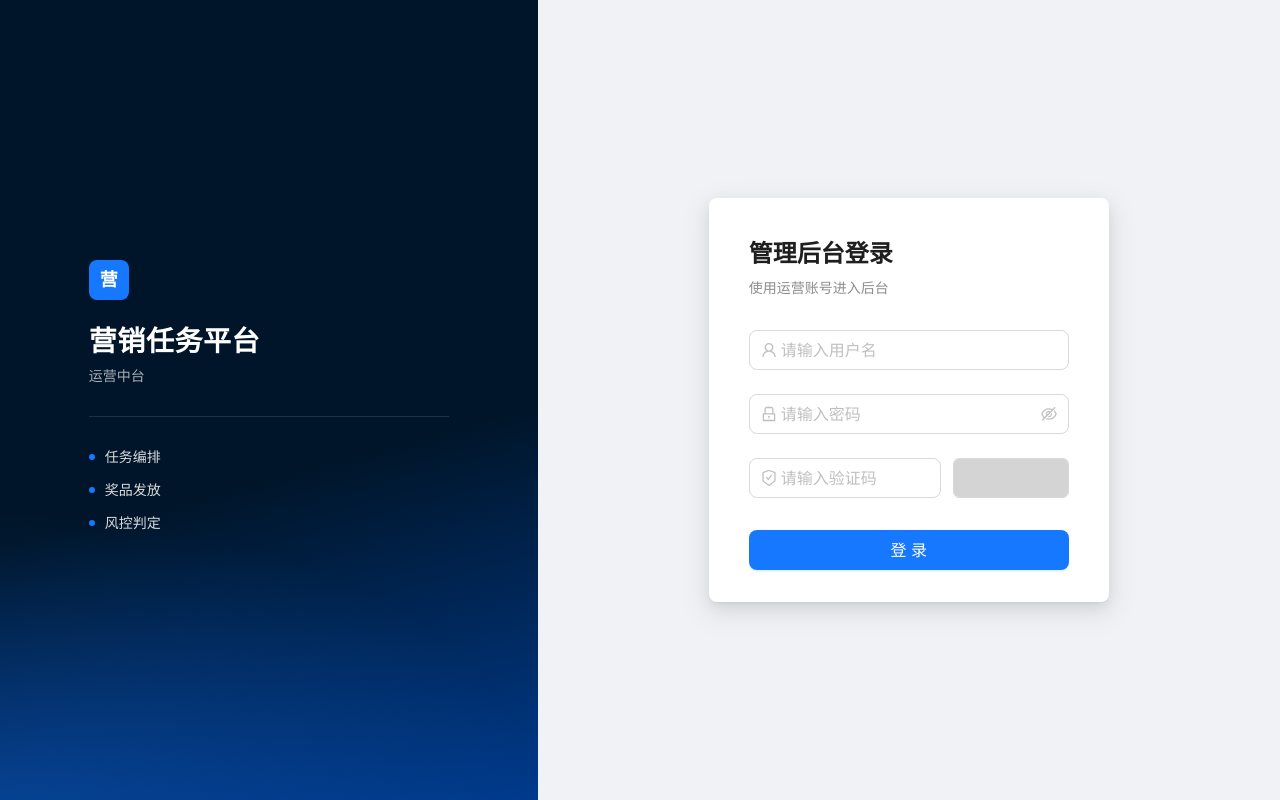
Test: LoginPage › refreshes captcha when captcha is invalid
Type "admin" into the field with placeholder "请输入用户名" at (919, 350), box [781,338,1057,362]
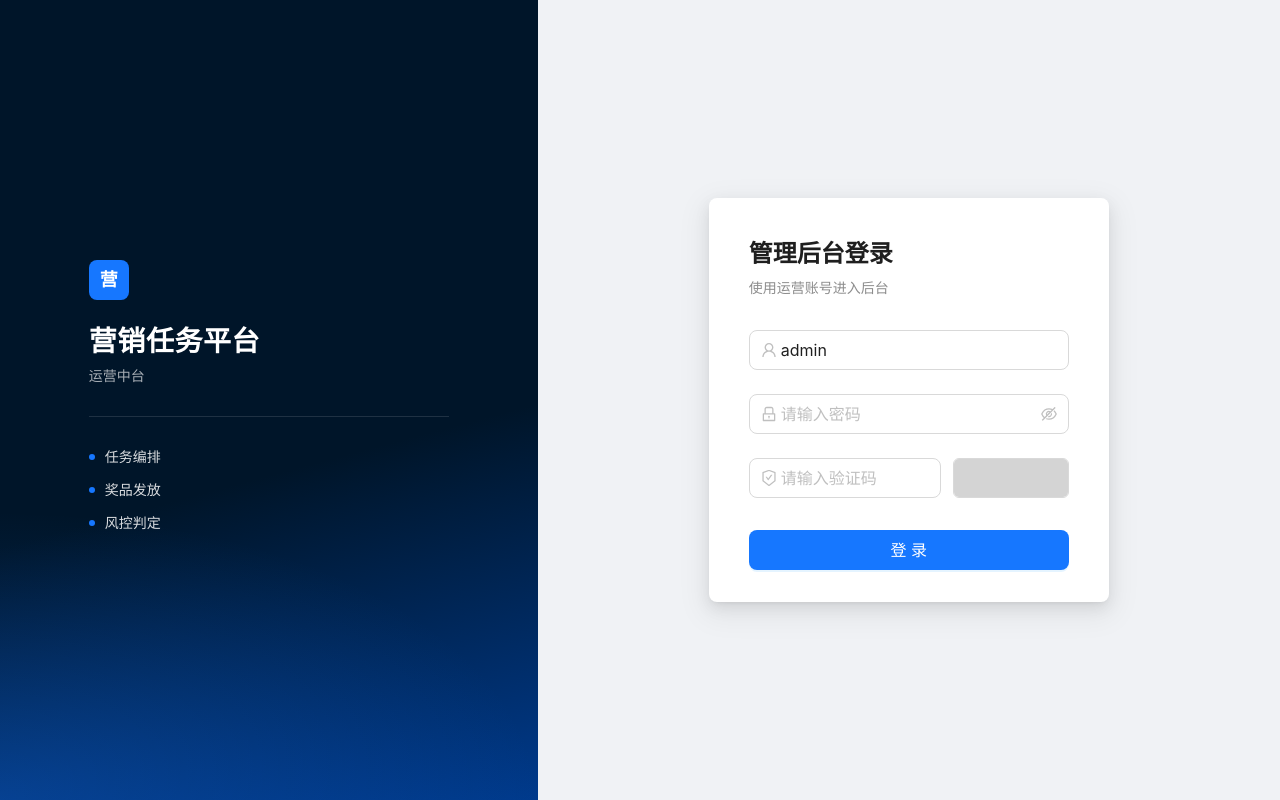
Type "Admin123!x" into the password field with placeholder "请输入密码" at (909, 414), box [781,402,1037,426]
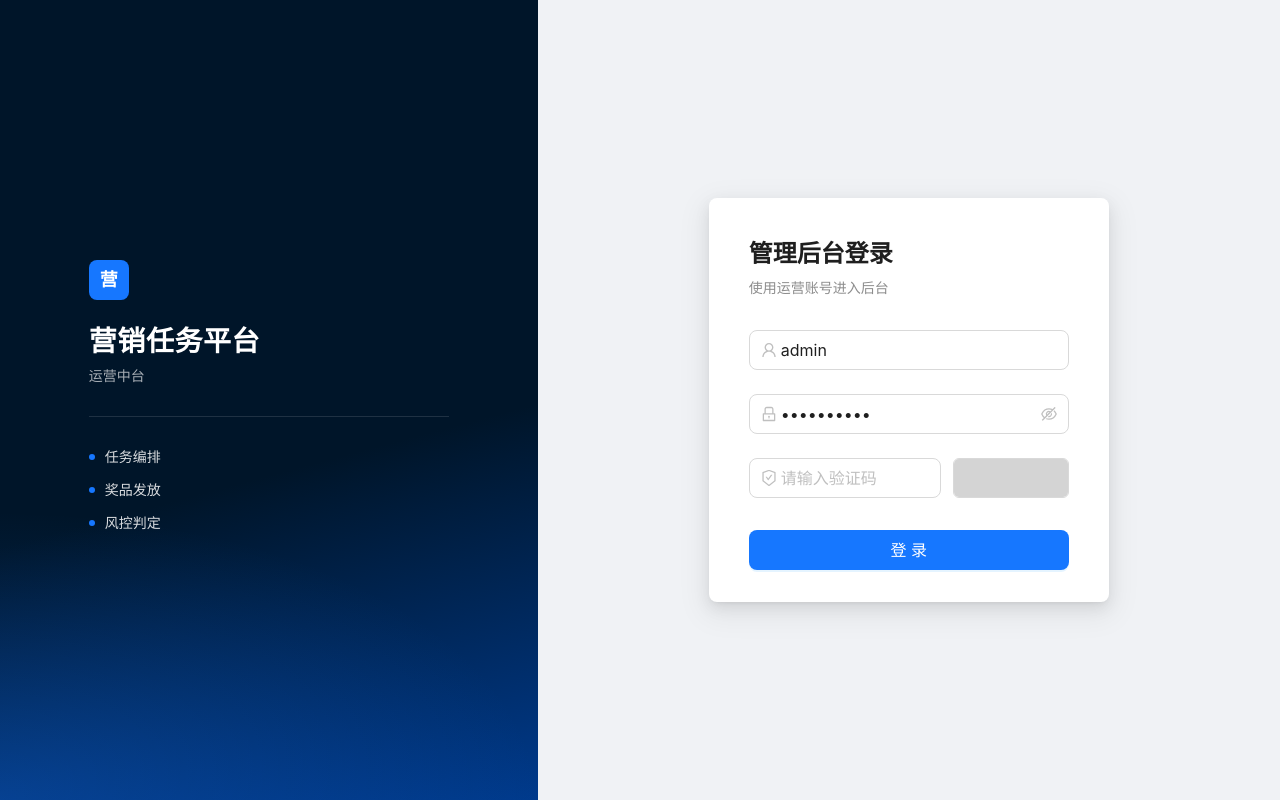
Type "bad" into the field with placeholder "请输入验证码" at (855, 478), box [781,466,929,490]
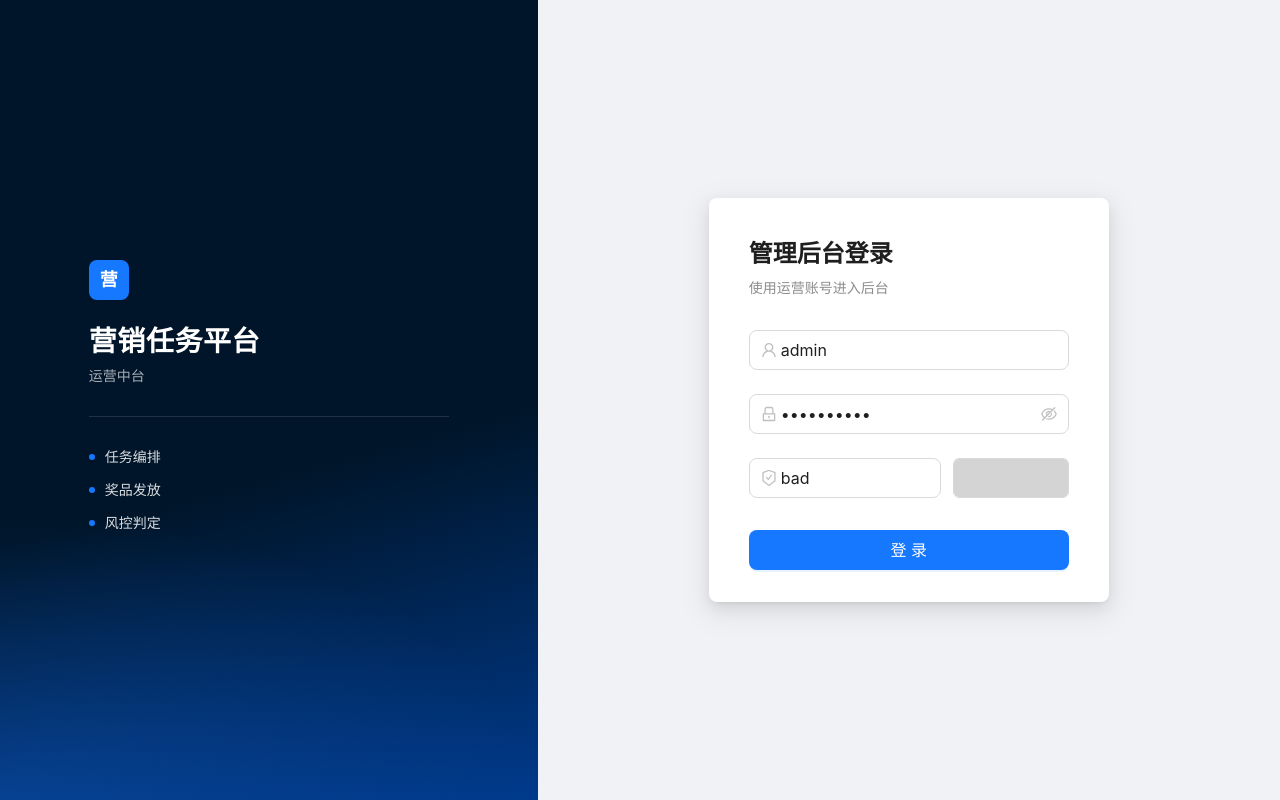
Submit the form, box [749,238,1069,570]
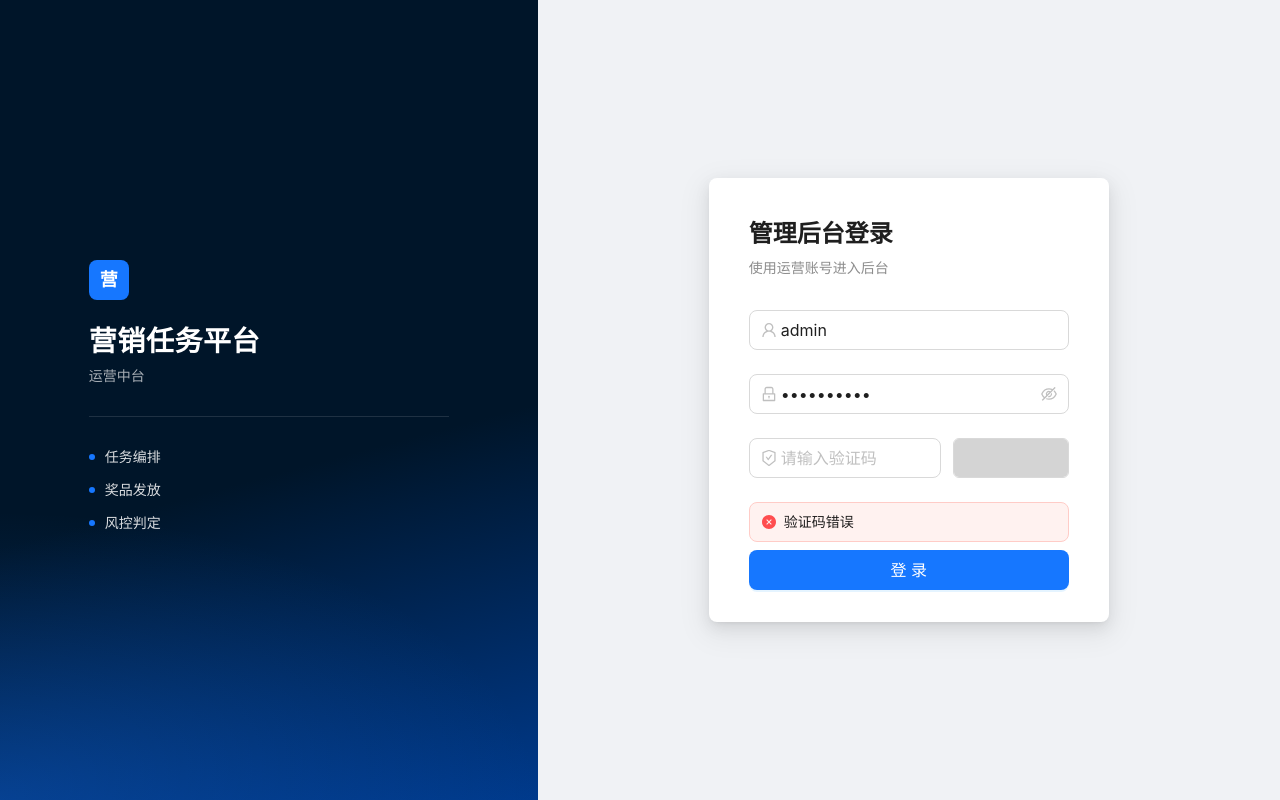
Now the message with test id "login-error" reads "验证码错误", box [784,513,854,530]
